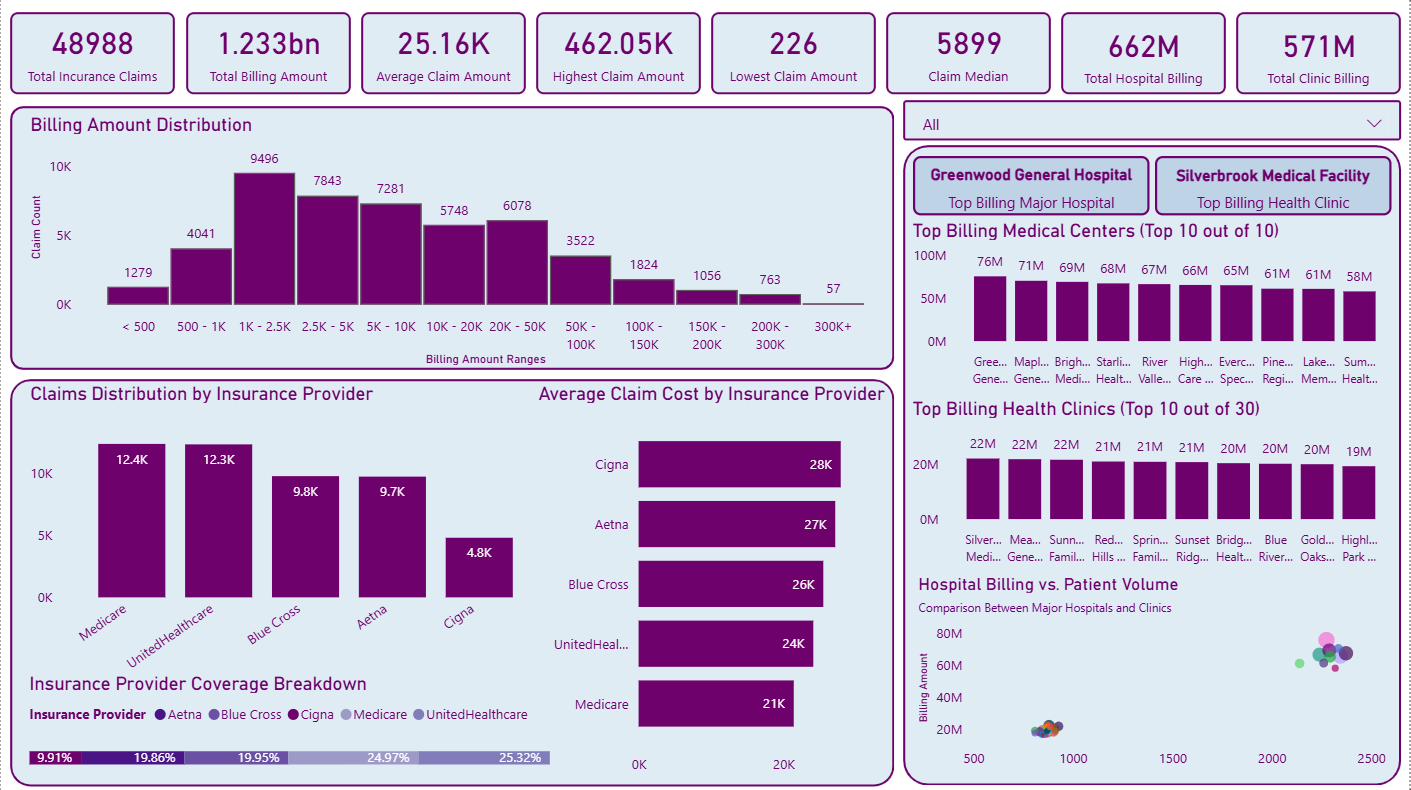

Layout of this report page (visuals, bound fields, positions):
{"tool":"powerbi","page":{"name":"Insurance Providers & Hospital Billing","canvas":[1280,720],"ordinal":1},"visuals":[{"type":"shape","title":"Background Shape","box":[820,132.9,452.9,582.4],"z":0},{"type":"shape","title":"Background Shape","box":[8.2,97.6,804.1,240],"z":1000},{"type":"shape","title":"Background Shape","box":[8.2,345.3,804.1,370.6],"z":2000},{"type":"clusteredColumnChart","title":"Claims Distribution by Insurance Provider","fields":{"Category":["Insurance_Provider_Count.insurance_provider"],"Y":["Sum(Insurance_Provider_Count.claim_count)"]},"box":[22.2,347.8,482.2,277.8],"z":4000},{"type":"card","fields":{"Values":["CountNonNull(Healthcare_Dataset.record_id)"]},"box":[8.6,12.1,150,75],"z":5000},{"type":"card","fields":{"Values":["Sum(Healthcare_Dataset.billing_amount)"]},"box":[167.8,11.7,150,75],"z":6000},{"type":"card","fields":{"Values":["Avg(Healthcare_Dataset.billing_amount)"]},"box":[326.9,11.9,150,75],"z":7000},{"type":"card","fields":{"Values":["Min(Hospital_Count_Average_Billing.hospital)"]},"box":[828.8,143.1,215.3,53.5],"z":8000},{"type":"columnChart","title":"Top Billing Medical Centers (Top 10 out of 10)","fields":{"Category":["Hospital_Count_Average_Billing.hospital"],"Y":["Sum(Hospital_Count_Average_Billing.billing_amount)1"]},"box":[823.5,200,446.5,160],"z":9000},{"type":"card","fields":{"Values":["Min(Hospital_Count_Average_Billing.hospital)"]},"box":[1049.4,142.5,214.7,54.1],"z":10000},{"type":"columnChart","title":"Top Billing Health Clinics (Top 10 out of 30)","fields":{"Category":["Hospital_Count_Average_Billing.hospital"],"Y":["Sum(Hospital_Count_Average_Billing.billing_amount)1"]},"box":[823.5,361.8,446.5,160],"z":11000},{"type":"scatterChart","title":"Hospital Billing vs. Patient Volume","fields":{"X":["Hospital_Count_Average_Billing.patient_count"],"Y":["Sum(Hospital_Count_Average_Billing.billing_amount)"],"Series":["Hospital_Count_Average_Billing.hospital"],"Size":["Sum(Hospital_Count_Average_Billing.billing_amount)"]},"box":[823.5,521.8,446.5,189.4],"z":12000},{"type":"hundredPercentStackedBarChart","title":"Insurance Provider Coverage Breakdown","fields":{"Series":["Insurance_Provider_Count.insurance_provider"],"Y":["Sum(Insurance_Provider_Count.provider_ratio)"]},"box":[21.1,612.2,483.3,101.1],"z":13000},{"type":"card","fields":{"Values":["Sum(Hospital_Count_Average_Billing.billing_amount)"]},"box":[963.7,11.9,150,75],"z":14000},{"type":"card","fields":{"Values":["Sum(Hospital_Count_Average_Billing.billing_amount)"]},"box":[1122.9,12.1,150,75],"z":15000},{"type":"card","fields":{"Values":["Max(Healthcare_Dataset.billing_amount)"]},"box":[486.1,11.9,150,75],"z":16000},{"type":"card","fields":{"Values":["Min(Healthcare_Dataset.billing_amount)"]},"box":[645.3,11.9,150,75],"z":17000},{"type":"card","fields":{"Values":["Median(Healthcare_Dataset.billing_amount)"]},"box":[804.5,11.9,150,75],"z":18000},{"type":"clusteredColumnChart","title":"Billing Amount Distribution","fields":{"Category":["Healthcare_Dataset.Claim Bins"],"Y":["CountNonNull(Healthcare_Dataset.record_id)"]},"box":[21.7,103.3,790.8,234.2],"z":19000},{"type":"clusteredBarChart","title":"Average Claim Cost by Insurance Provider","fields":{"Category":["Insurance_Provider_Count.insurance_provider"],"Y":["Avg(Insurance_Provider_Count.claim_average)"]},"box":[483.3,347.8,333.3,365.6],"z":20000},{"type":"slicer","fields":{"Values":["Year_Dimension_Table.Year_Of_Admission"]},"box":[820,91.8,452.9,37.1],"z":21000}]}

Visuals, with their boxes in screenshot pixels (x1, y1, x2, y2), scaled from the page's 1280x720 canvas onto the 1411x790 screenshot:
"Background Shape" shape: <bbox>904, 146, 1403, 785</bbox>
"Background Shape" shape: <bbox>9, 107, 895, 370</bbox>
"Background Shape" shape: <bbox>9, 379, 895, 786</bbox>
"Claims Distribution by Insurance Provider" clusteredColumnChart: <bbox>24, 382, 556, 686</bbox>
card - CountNonNull(Healthcare_Dataset.record_id): <bbox>9, 13, 175, 96</bbox>
card - Sum(Healthcare_Dataset.billing_amount): <bbox>185, 13, 350, 95</bbox>
card - Avg(Healthcare_Dataset.billing_amount): <bbox>360, 13, 526, 95</bbox>
card - Min(Hospital_Count_Average_Billing.hospital): <bbox>914, 157, 1151, 216</bbox>
"Top Billing Medical Centers (Top 10 out of 10)" columnChart: <bbox>908, 219, 1400, 395</bbox>
card - Min(Hospital_Count_Average_Billing.hospital): <bbox>1157, 156, 1393, 216</bbox>
"Top Billing Health Clinics (Top 10 out of 30)" columnChart: <bbox>908, 397, 1400, 573</bbox>
"Hospital Billing vs. Patient Volume" scatterChart: <bbox>908, 573, 1400, 780</bbox>
"Insurance Provider Coverage Breakdown" hundredPercentStackedBarChart: <bbox>23, 672, 556, 783</bbox>
card - Sum(Hospital_Count_Average_Billing.billing_amount): <bbox>1062, 13, 1228, 95</bbox>
card - Sum(Hospital_Count_Average_Billing.billing_amount): <bbox>1238, 13, 1403, 96</bbox>
card - Max(Healthcare_Dataset.billing_amount): <bbox>536, 13, 701, 95</bbox>
card - Min(Healthcare_Dataset.billing_amount): <bbox>711, 13, 877, 95</bbox>
card - Median(Healthcare_Dataset.billing_amount): <bbox>887, 13, 1052, 95</bbox>
"Billing Amount Distribution" clusteredColumnChart: <bbox>24, 113, 896, 370</bbox>
"Average Claim Cost by Insurance Provider" clusteredBarChart: <bbox>533, 382, 900, 783</bbox>
slicer - Year_Dimension_Table.Year_Of_Admission: <bbox>904, 101, 1403, 141</bbox>
